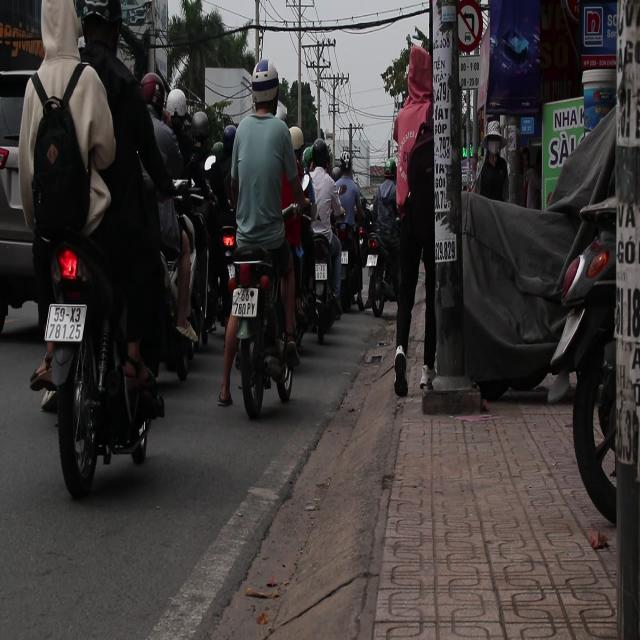motorbike: (44, 237, 162, 481), (218, 243, 305, 414), (293, 205, 345, 343), (362, 210, 397, 318)
